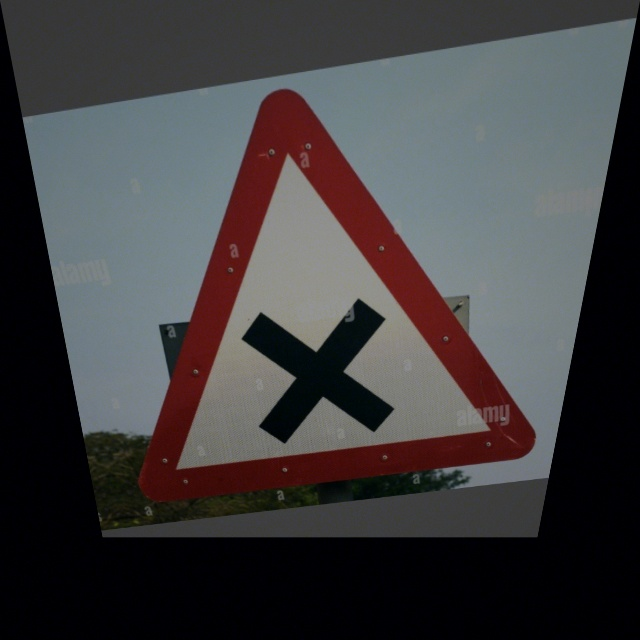Cross_Road: (57, 52, 606, 501)
